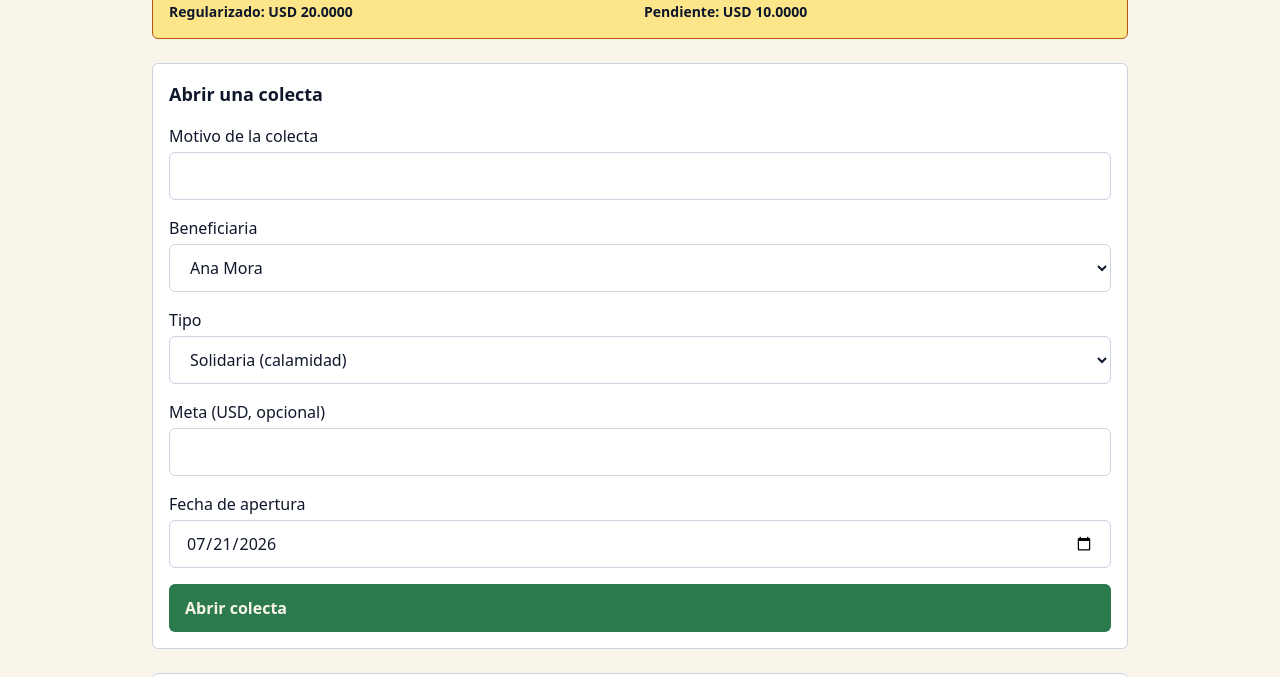
Test: collection screen view contract › defaults recognition to the current fiscal year only when that kind is selected
The width and height of the screenshot is (1280, 677).
(page scrolled)
Expected: the field labelled "Año fiscal del reconocimiento" is not shown
Select "Reconocimiento a tesorera" in the dropdown labelled "Tipo" at (640, 360), box x1=169 y1=336 x2=1111 y2=384
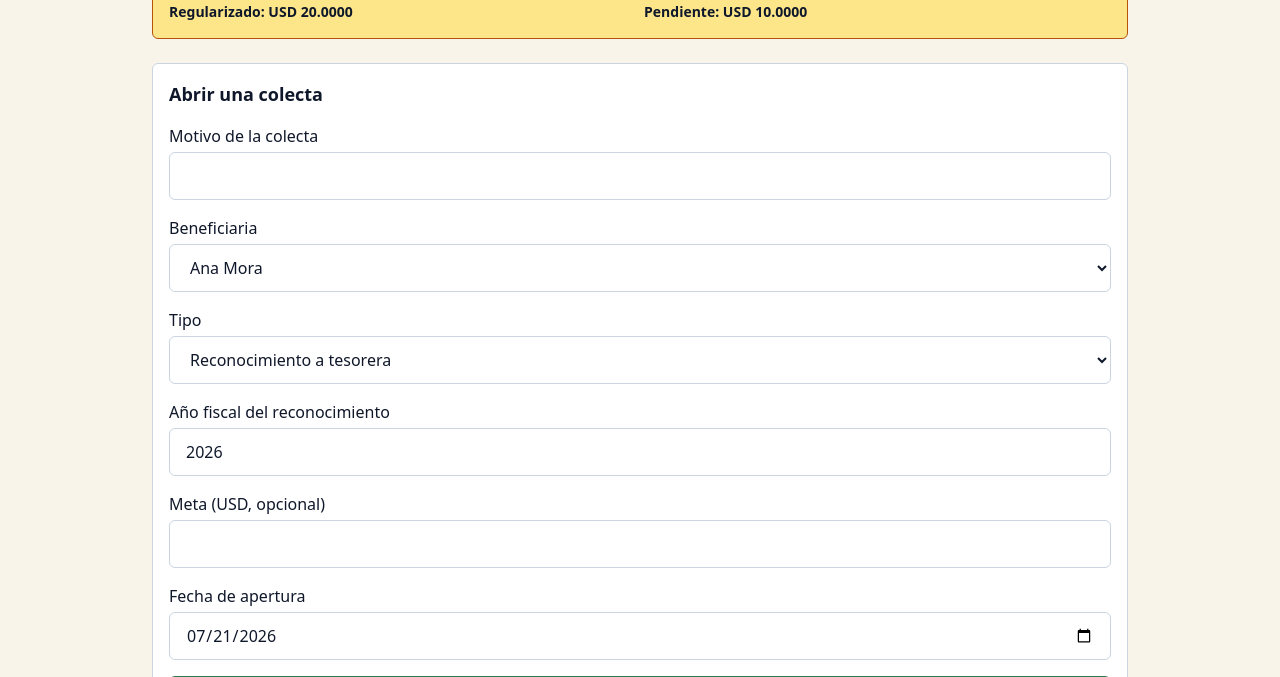
Expected: the number field labelled "Año fiscal del reconocimiento" holds "2026", x1=169 y1=428 x2=1111 y2=476
